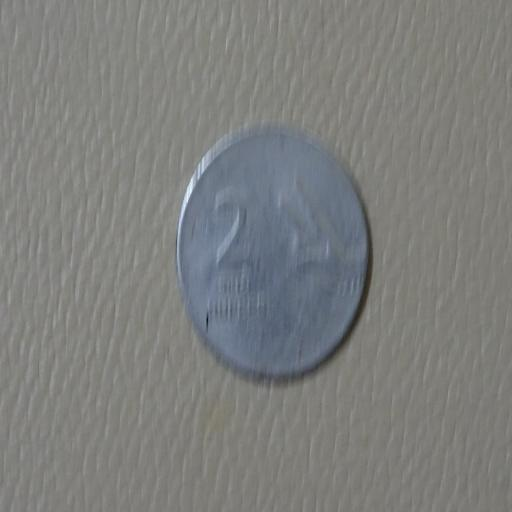rupee2: (172, 126, 371, 379)
